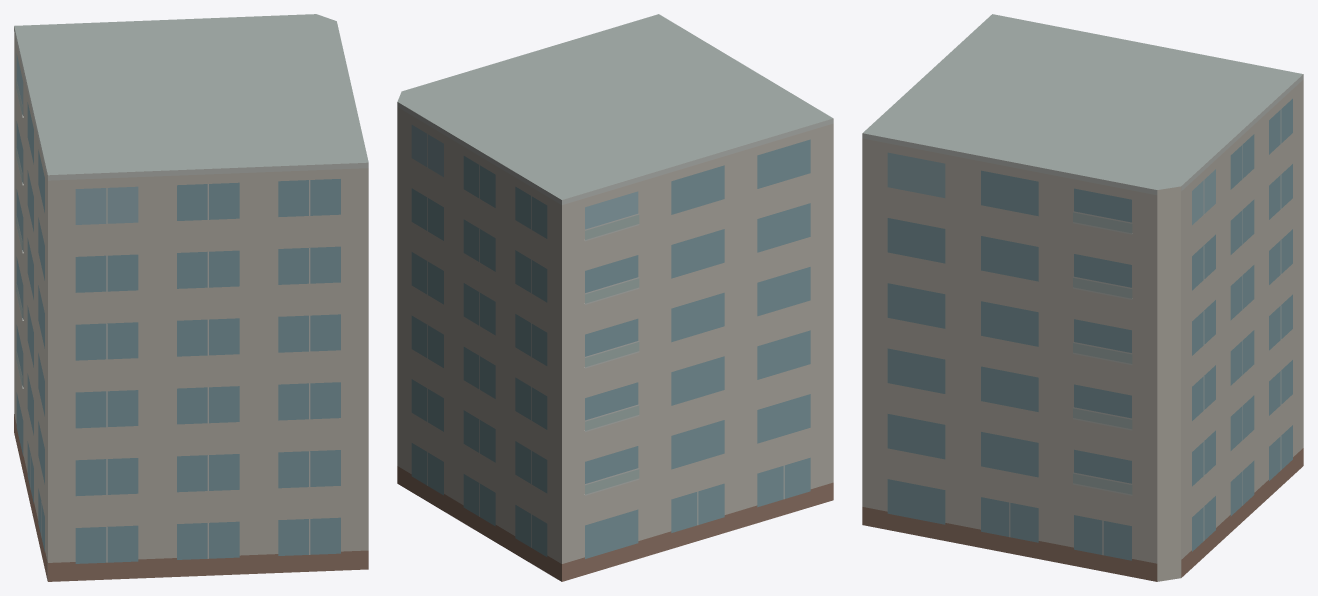
Rendered from survey-upis-32667281.glb.
The picture shows the model from 3 angles, left to right: view 1: azimuth 30°, elevation 25°; view 2: azimuth 150°, elevation 25°; view 3: azimuth 270°, elevation 25°; orthographic projection. The views are drawn at different scales.
Parts seen in each view (by area): view 1: survey-upis-32667281.tmp; view 2: survey-upis-32667281.tmp; view 3: survey-upis-32667281.tmp.
Part boxes in pixels (box(x1,y1,x2,y2)): survey-upis-32667281.tmp: box(14, 14, 368, 581); survey-upis-32667281.tmp: box(397, 14, 833, 581); survey-upis-32667281.tmp: box(862, 14, 1303, 581).
Bounding box in the file's own units: 17.65 × 18.3 × 18.68.
